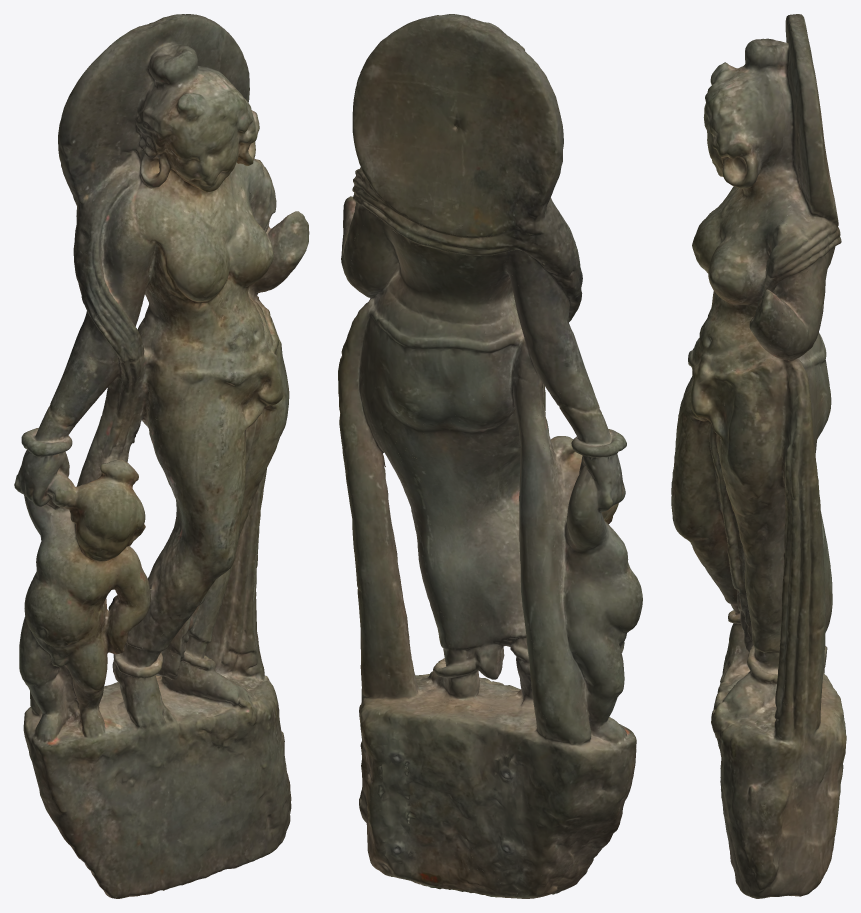
File: mother-goddess-hi.glb
3 renders of one model, left to right at view 1: azimuth 30°, elevation 25°; view 2: azimuth 150°, elevation 25°; view 3: azimuth 270°, elevation 25°, orthographic. The views are drawn at different scales.
Visible parts, largest first — view 1: Object_3, Object_2; view 2: Object_2, Object_3; view 3: Object_3, Object_2.
Part boxes in pixels (bbox=[...]): Object_3: bbox=[19, 14, 309, 898]; Object_2: bbox=[14, 160, 301, 741]; Object_2: bbox=[338, 196, 642, 898]; Object_3: bbox=[341, 14, 637, 898]; Object_3: bbox=[678, 14, 845, 898]; Object_2: bbox=[671, 187, 846, 814].
Bounding box in the file's own units: 0.2772 × 0.7951 × 0.1506.
1 material, 1 textured.
